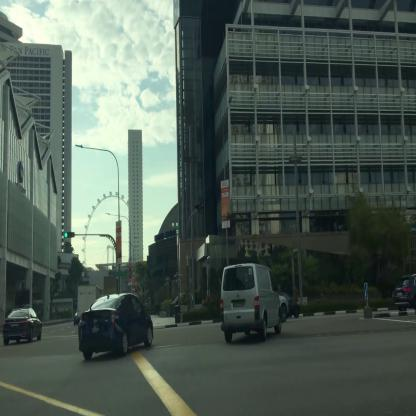green_traffic_light: (65, 232, 73, 238)
